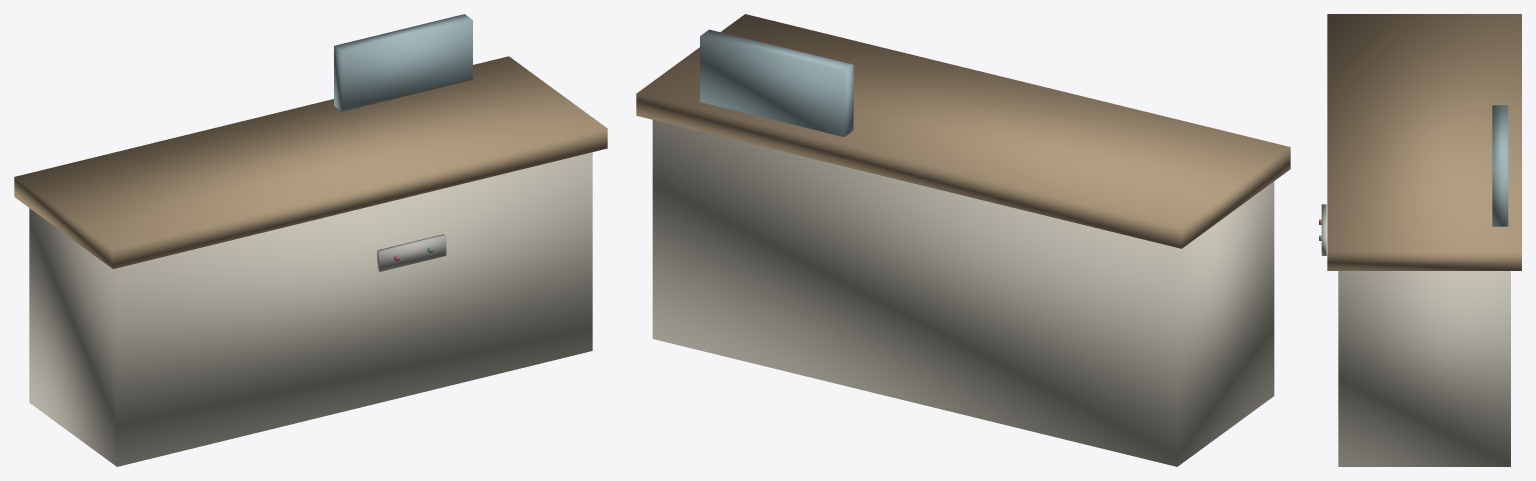
File: pharmacy_pickup_counter.glb
3 renders of one model, left to right at view 1: azimuth 30°, elevation 25°; view 2: azimuth 150°, elevation 25°; view 3: azimuth 270°, elevation 25°, orthographic. The views are drawn at different scales.
Visible parts, largest first — view 1: world; view 2: world; view 3: world.
Boxes of the visible parts, x1=… form: world: x1=14, y1=14, x2=607, y2=466; world: x1=636, y1=14, x2=1290, y2=466; world: x1=1319, y1=14, x2=1521, y2=466.
Size of the model in its own units: 2.08 by 1.14 by 0.751.
